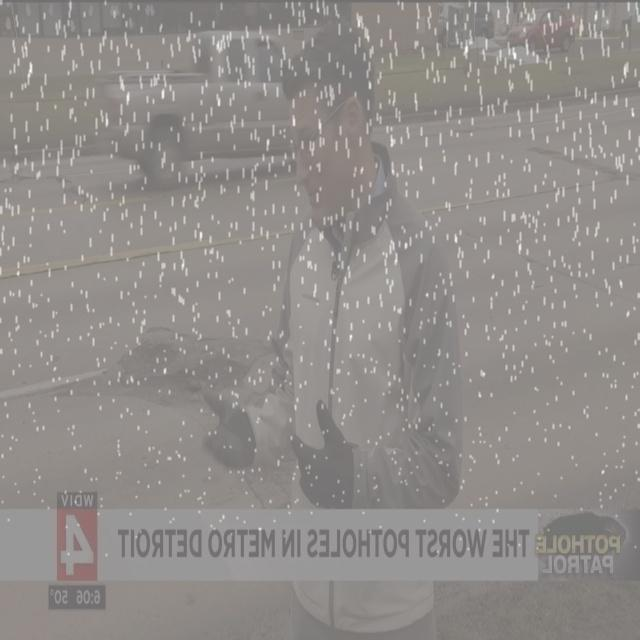Pothole: (33, 316, 268, 408)
